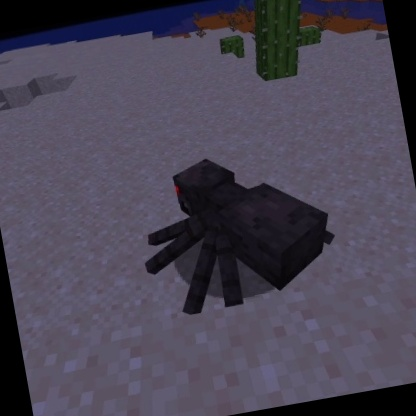spider: (124, 134, 349, 323)
